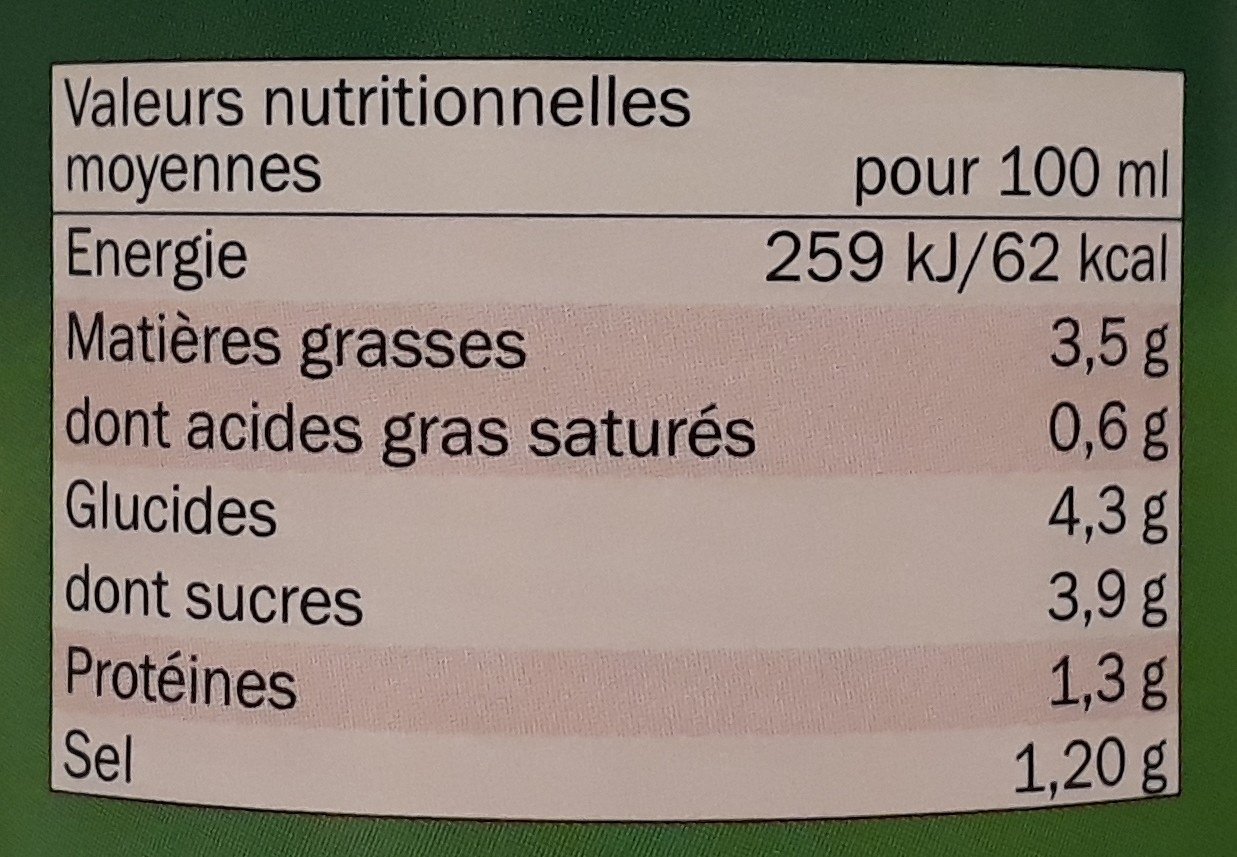column: (66, 70, 755, 804), (762, 143, 1170, 796)
table: (50, 63, 1183, 808)
